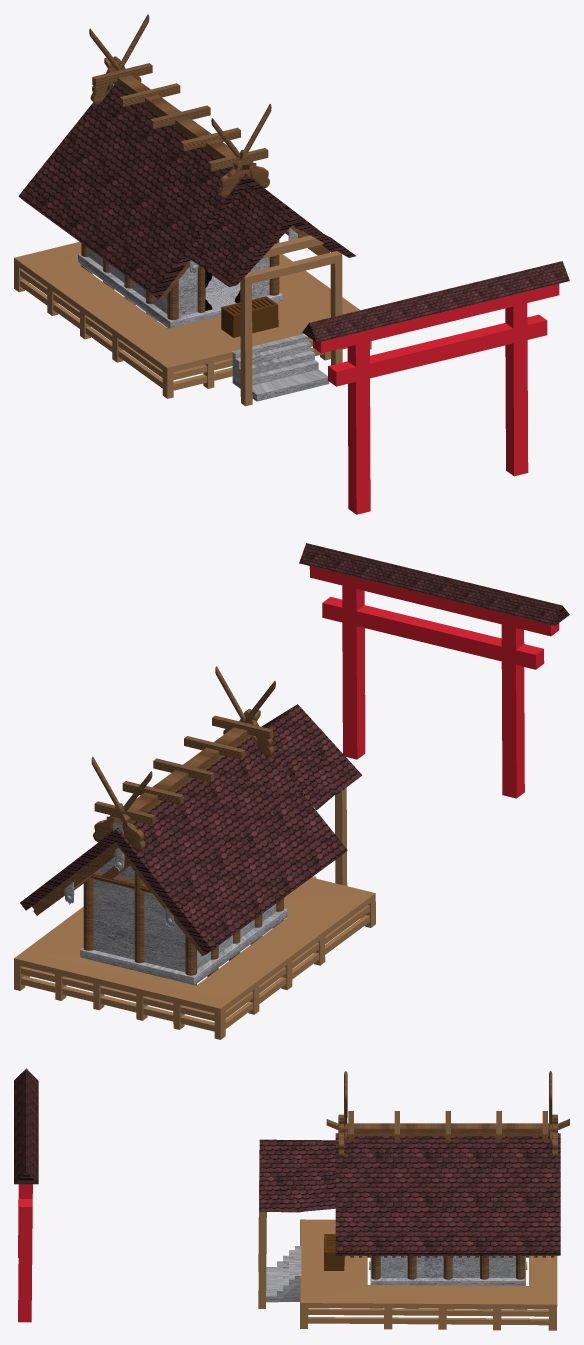
Rendered from Reimu.obj.
3 views of the same model, one above another, from view 1: azimuth 30°, elevation 25°; view 2: azimuth 150°, elevation 25°; view 3: azimuth 270°, elevation 25° (orthographic). The views are drawn at different scales.
Visible parts, largest first — view 1: polySurface1 polySurface191, polySurface179, group_0__1499859, polySurface301 polySurface293, polySurface173 group_0__13947343, polySurface7, polySurface293 polySurface304, polySurface1 polySurface224, polySurface189 polySurface1, polySurface1 polySurface194, polySurface188 group_0__10471149, polySurface1 polySurface280 (+4 smaller); view 2: polySurface1 polySurface191, polySurface179, group_0__1499859, polySurface1 polySurface194, polySurface173 group_0__13947343, polySurface301 polySurface293, polySurface1 polySurface224, polySurface189 polySurface1, polySurface1 polySurface275, polySurface293 polySurface304, polySurface1 polySurface190, polySurface1 polySurface210 (+5 smaller); view 3: polySurface1 polySurface191, polySurface179, polySurface301 polySurface293, polySurface173 group_0__13947343, polySurface1 polySurface194, polySurface189 polySurface1, group_0__1499859, polySurface7, polySurface1 polySurface224, polySurface293 polySurface304, polySurface188 group_0__10471149.
Part boxes in pixels (x1,y1,x2,y2): polySurface1 polySurface191: (18, 85, 336, 299); polySurface179: (14, 242, 371, 398); group_0__1499859: (313, 283, 559, 514); polySurface301 polySurface293: (183, 184, 355, 286); polySurface173 group_0__13947343: (302, 261, 569, 342); polySurface7: (232, 334, 329, 401); polySurface293 polySurface304: (240, 251, 342, 406); polySurface1 polySurface224: (78, 253, 282, 328); polySurface189 polySurface1: (113, 74, 235, 169); polySurface1 polySurface194: (88, 249, 269, 316); polySurface188 group_0__10471149: (221, 296, 278, 337); polySurface1 polySurface280: (218, 149, 269, 197); polySurface1 polySurface191: (20, 737, 347, 954); polySurface179: (14, 877, 375, 1039); group_0__1499859: (309, 566, 559, 798); polySurface1 polySurface194: (93, 857, 276, 971); polySurface173 group_0__13947343: (299, 543, 569, 625); polySurface301 polySurface293: (261, 704, 362, 810); polySurface1 polySurface224: (80, 908, 287, 985); polySurface189 polySurface1: (128, 727, 251, 823); polySurface1 polySurface275: (93, 803, 145, 851); polySurface293 polySurface304: (335, 787, 347, 885); polySurface1 polySurface190: (32, 842, 202, 951); polySurface1 polySurface210: (134, 872, 144, 963); polySurface1 polySurface191: (335, 1133, 560, 1255); polySurface179: (300, 1219, 557, 1330); polySurface301 polySurface293: (259, 1139, 335, 1212); polySurface173 group_0__13947343: (14, 1068, 38, 1184); polySurface1 polySurface194: (380, 1255, 515, 1277); polySurface189 polySurface1: (344, 1123, 551, 1135); group_0__1499859: (18, 1184, 32, 1322); polySurface7: (266, 1246, 301, 1302); polySurface1 polySurface224: (370, 1255, 525, 1285); polySurface293 polySurface304: (258, 1181, 266, 1308); polySurface188 group_0__10471149: (324, 1234, 344, 1270).
Bounding box in the file's own units: 9.07 × 8.05 × 19.69.
